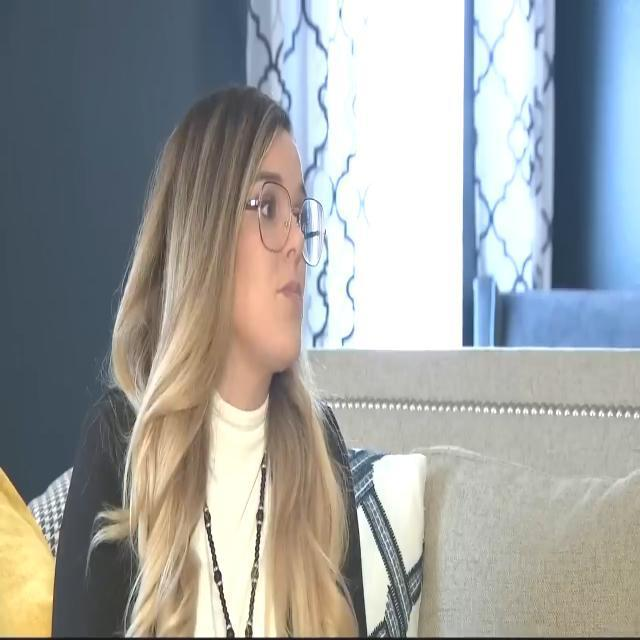non-fight: (96, 41, 410, 640)
